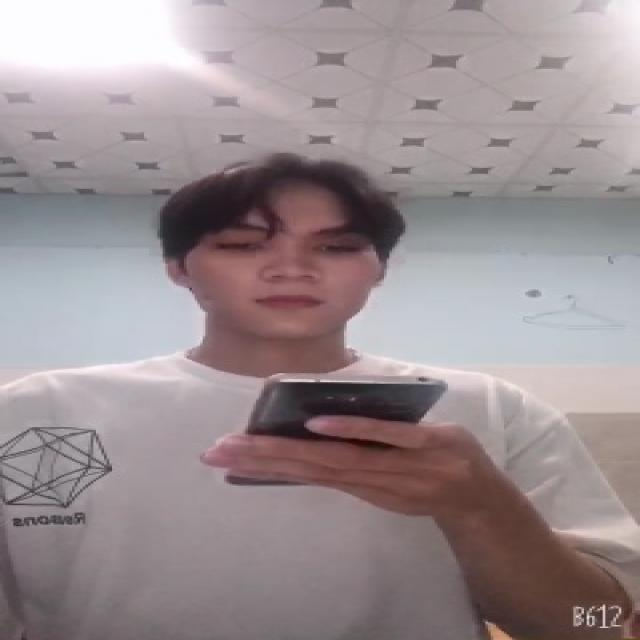Phone: (239, 368, 456, 448)
